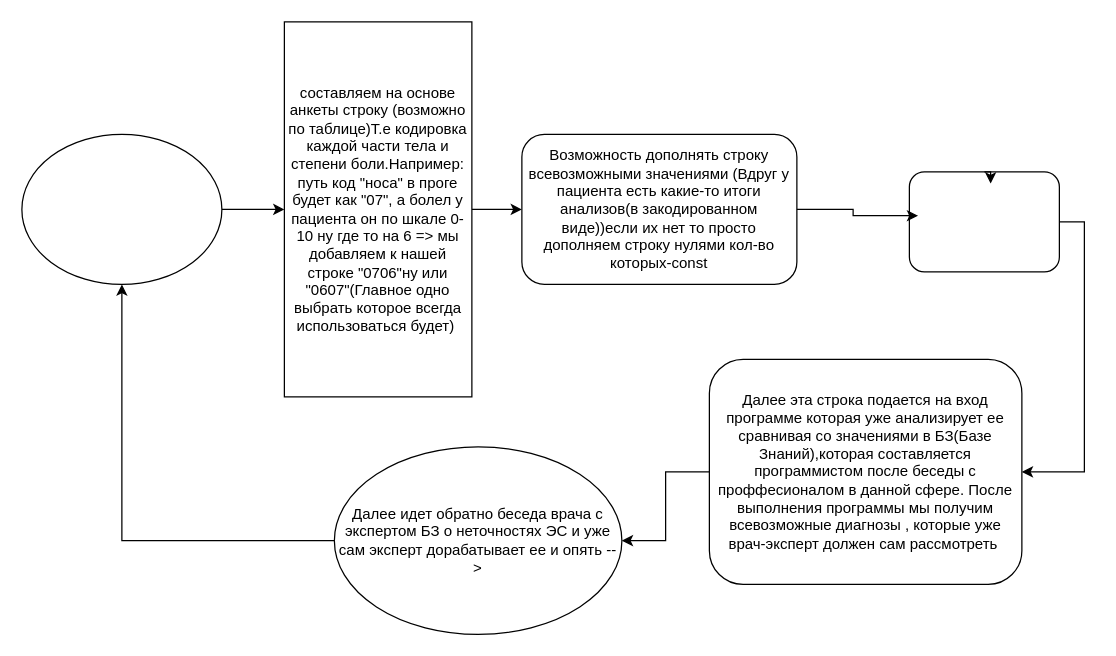
This 1116x656 diagram has some shape labels left out. Each missing label, with the centre of its shape:
"Анкетирование пациента"-спрашиваем что болит, где болит и т.д: point 121,208
Строка типа {xx...xx}(длина строки на выходе -const: point 983,221
